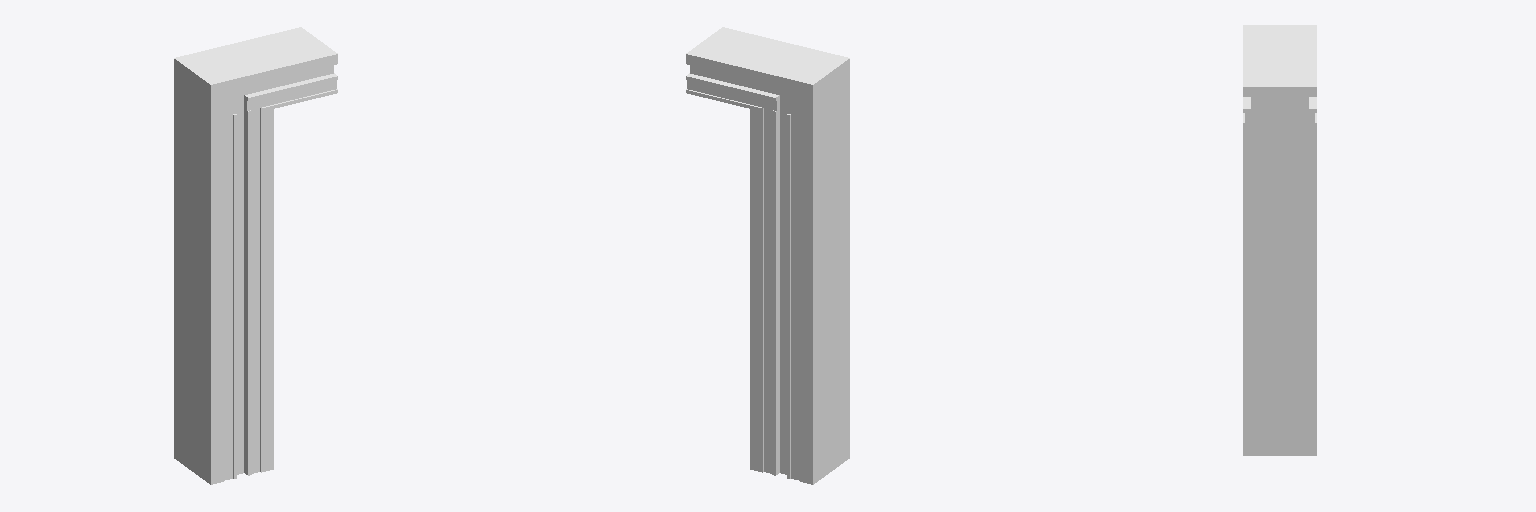
File: TestLayout2-4.obj
The picture shows the model from 3 angles: view 1: azimuth 30°, elevation 25°; view 2: azimuth 150°, elevation 25°; view 3: azimuth 270°, elevation 25°; orthographic projection.
Visible parts, largest first — view 1: object 1; view 2: object 1; view 3: object 1.
Part boxes in pixels (bbox=[...]): object 1: bbox=[174, 27, 337, 484]; object 1: bbox=[686, 27, 849, 484]; object 1: bbox=[1243, 25, 1316, 455].
Size of the model in its own units: 7.8 by 23.4 by 3.9.